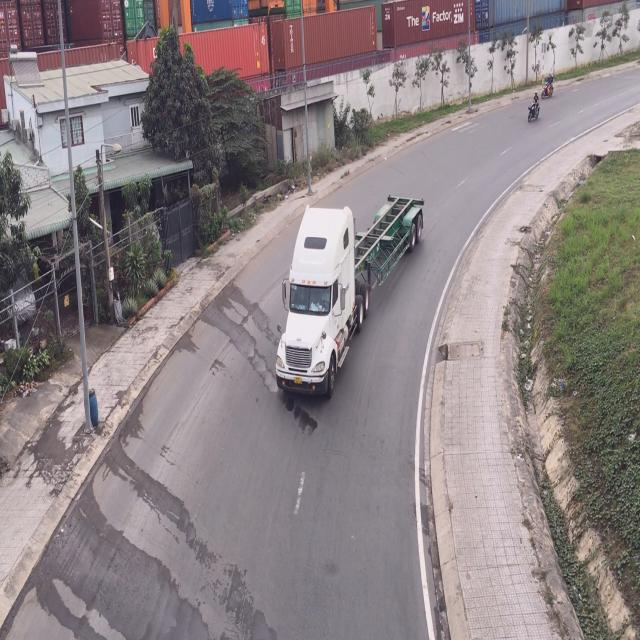motorbike: (527, 92, 540, 124), (541, 68, 553, 99)
truck: (277, 201, 422, 402)
